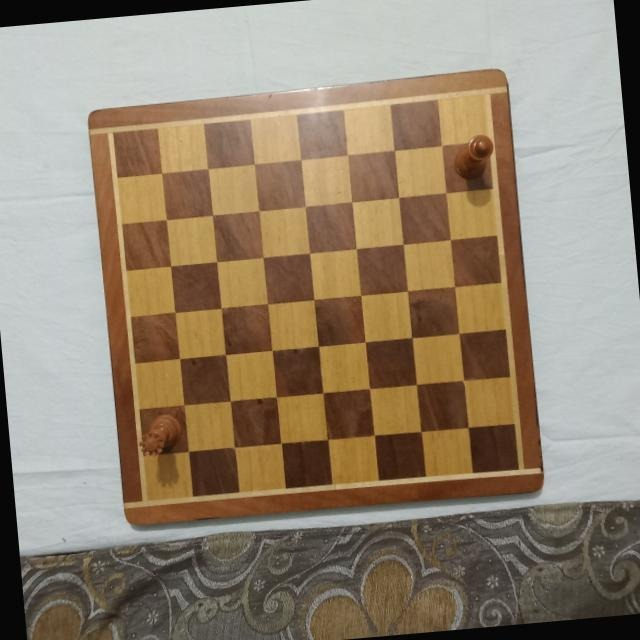white-king: (449, 130, 494, 181)
white-queen: (134, 411, 186, 460)
